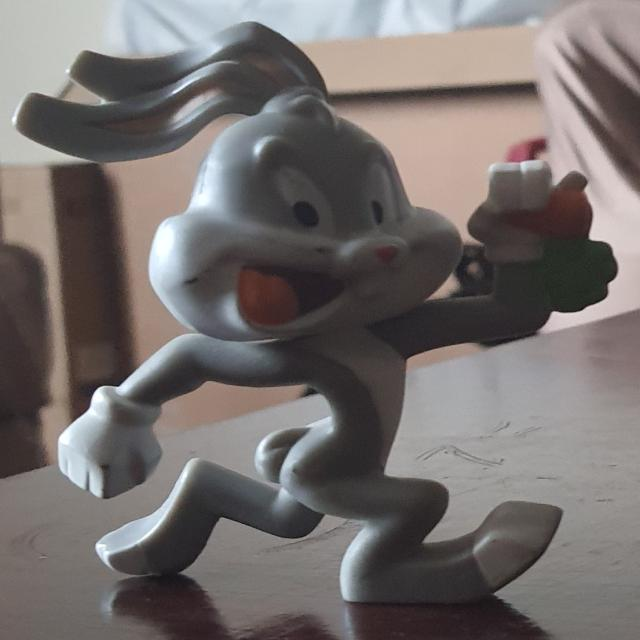Rabbit: (16, 23, 617, 602)
